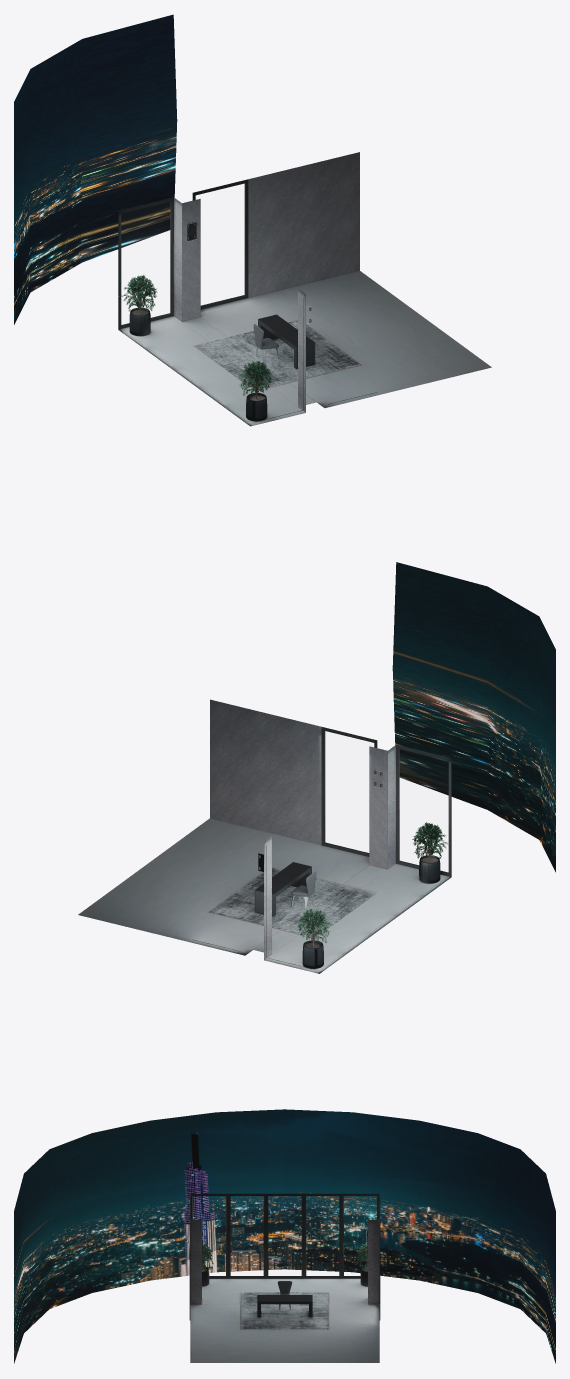
Rendered from room.glb.
3 renders of one model, top to bottom at view 1: azimuth 30°, elevation 25°; view 2: azimuth 150°, elevation 25°; view 3: azimuth 270°, elevation 25°, orthographic. The views are drawn at different scales.
Visible parts, largest first — view 1: Minimalistic Modern Office, Carpet, Minimalistic Modern Office_Plants_0.001; view 2: Minimalistic Modern Office, Carpet, Minimalistic Modern Office_Plants_0.001; view 3: Minimalistic Modern Office, Carpet.
Boxes of the visible parts, x1,y1,x2,y2 form: Minimalistic Modern Office: (14,14,491,426); Carpet: (194,320,360,389); Minimalistic Modern Office_Plants_0.001: (132,288,272,395); Minimalistic Modern Office: (78,562,555,973); Carpet: (209,868,376,936); Minimalistic Modern Office_Plants_0.001: (300,822,450,946); Minimalistic Modern Office: (14,1109,555,1363); Carpet: (241,1292,328,1329).
Bounding box in the file's own units: 13.11 × 8.11 × 24.91.
9 materials, 7 textured.
